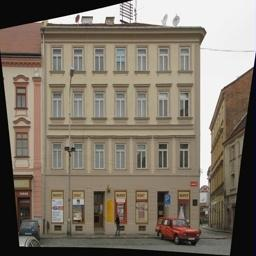building: (42, 21, 202, 234)
